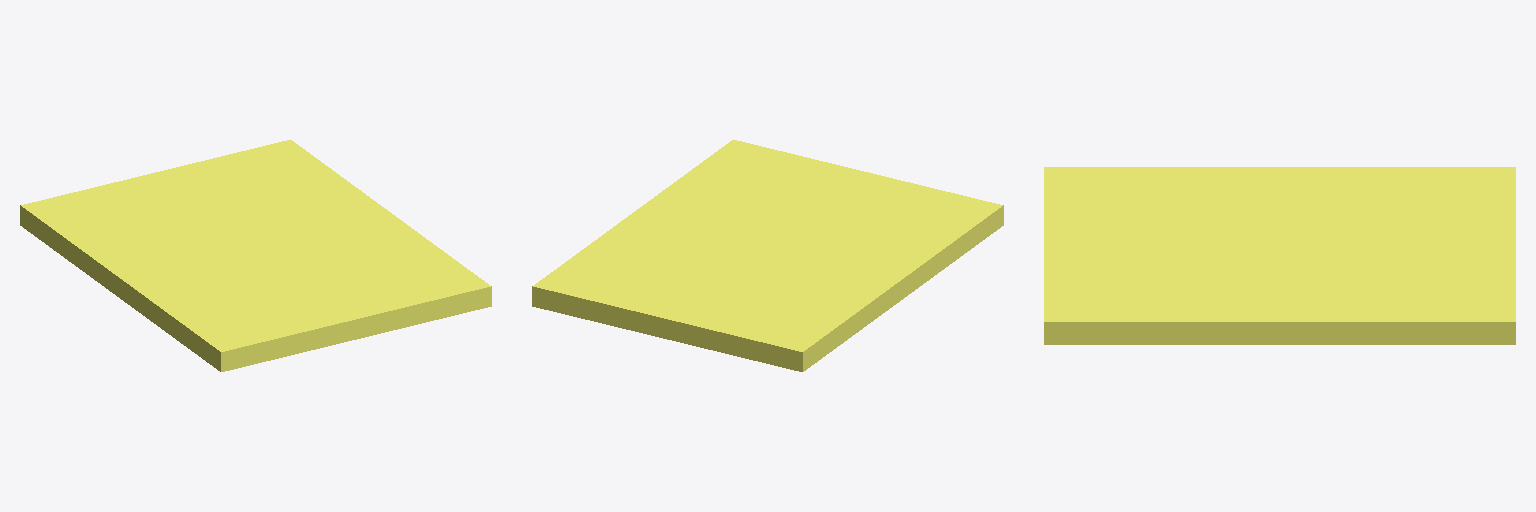
The robot description file, URDF, robot "ws_board":
<?xml version="1.0" encoding="utf-8"?>
<!--木质工作台-->
<robot
  name="ws_board">
  <link
    name="base_link">
    <inertial>
      <origin
        xyz="1.2855E-17 0.0064732 1.2722E-17"
        rpy="0 0 0" />
      <mass
        value="0.10186" />
      <inertia
        ixx="0.00019188"
        ixy="-8.6084E-21"
        ixz="2.076E-11"
        iyy="0.00049557"
        iyz="-1.5512E-20"
        izz="0.00030768" />
    </inertial>
    <visual>
      <origin
        xyz="0 0 0"
        rpy="0 0 0" />
      <geometry>
        <mesh
          filename="../meshes/ws_board.STL" />
      </geometry>
      <material
        name="wood">
        <color
          rgba="1 1 0.5 1" />
      </material>
    </visual>
    <collision>
      <origin
        xyz="0 0 0"
        rpy="0 0 0" />
      <geometry>
        <mesh
          filename="../meshes/ws_board.STL" />
      </geometry>
    </collision>
  </link>
</robot>

--- What the picture shows (computed from the rendered views, not written in the file) ---
The picture shows the robot from 3 angles, left to right: view 1: azimuth 30°, elevation 25°; view 2: azimuth 150°, elevation 25°; view 3: azimuth 270°, elevation 25°; orthographic projection.
Model ws_board with 1 links and 0 joints (none), rooted at base_link, posed all joints at 0.
Visible links, largest first — view 1: base_link; view 2: base_link; view 3: base_link.
Boxes of the visible links, <box> form: base_link: <box>20,140,491,371</box>; base_link: <box>532,140,1003,371</box>; base_link: <box>1044,167,1515,344</box>.
Bounding box of the posed robot: 0.14 × 0.18 × 0.01 m (x, y, z).
Meshes: 1 distinct files referenced, 1 mesh visuals loaded (1 binary STL).
